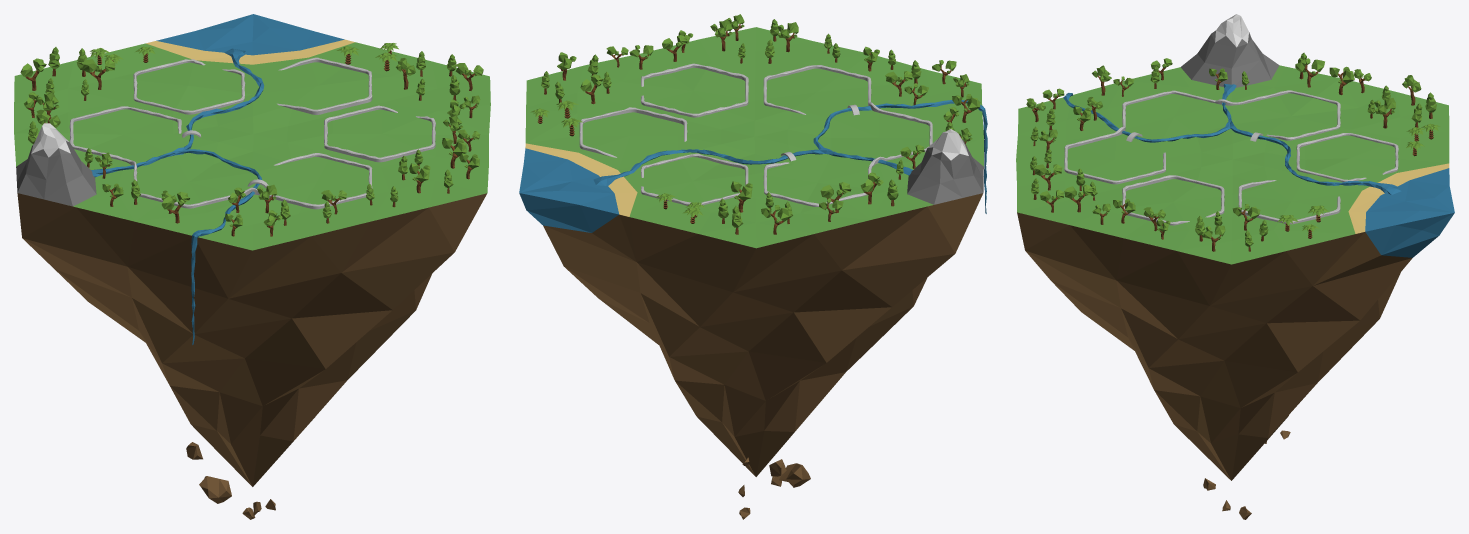
The model's file is Island_v003.fbx.
The picture shows the model from 3 angles, left to right: view 1: azimuth 30°, elevation 25°; view 2: azimuth 150°, elevation 25°; view 3: azimuth 270°, elevation 25°; orthographic projection. The views are drawn at different scales.
Parts seen in each view (by area): view 1: geo_Island, geo_Trees, geo_Walls, geo_Mountain, geo_River; view 2: geo_Island, geo_Trees, geo_Walls, geo_Mountain, geo_River; view 3: geo_Island, geo_Trees, geo_Walls, geo_Mountain, geo_River.
Boxes of the visible parts, x1=… form: geo_Island: x1=14, y1=14, x2=490, y2=519; geo_Trees: x1=20, y1=43, x2=483, y2=236; geo_Walls: x1=69, y1=57, x2=435, y2=209; geo_Mountain: x1=16, y1=123, x2=96, y2=206; geo_River: x1=91, y1=48, x2=264, y2=344; geo_Island: x1=519, y1=27, x2=983, y2=519; geo_Trees: x1=530, y1=14, x2=980, y2=234; geo_Walls: x1=579, y1=63, x2=932, y2=206; geo_Mountain: x1=907, y1=129, x2=983, y2=204; geo_River: x1=593, y1=100, x2=987, y2=213; geo_Island: x1=1016, y1=65, x2=1454, y2=519; geo_Trees: x1=1026, y1=52, x2=1440, y2=251; geo_Walls: x1=1064, y1=90, x2=1398, y2=225; geo_Mountain: x1=1181, y1=14, x2=1279, y2=87; geo_River: x1=1063, y1=83, x2=1401, y2=194.
Size of the model in its own units: 238 by 216 by 210.
